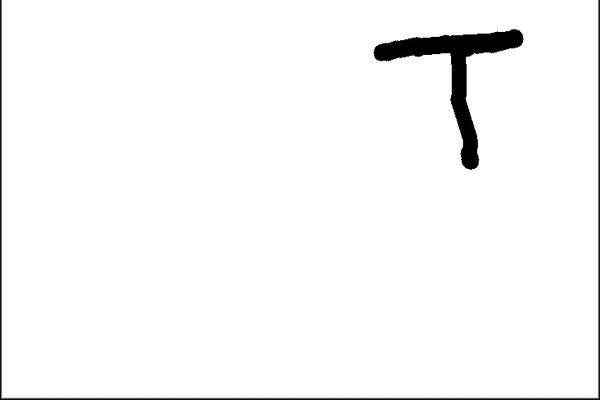T: (367, 19, 528, 170)
